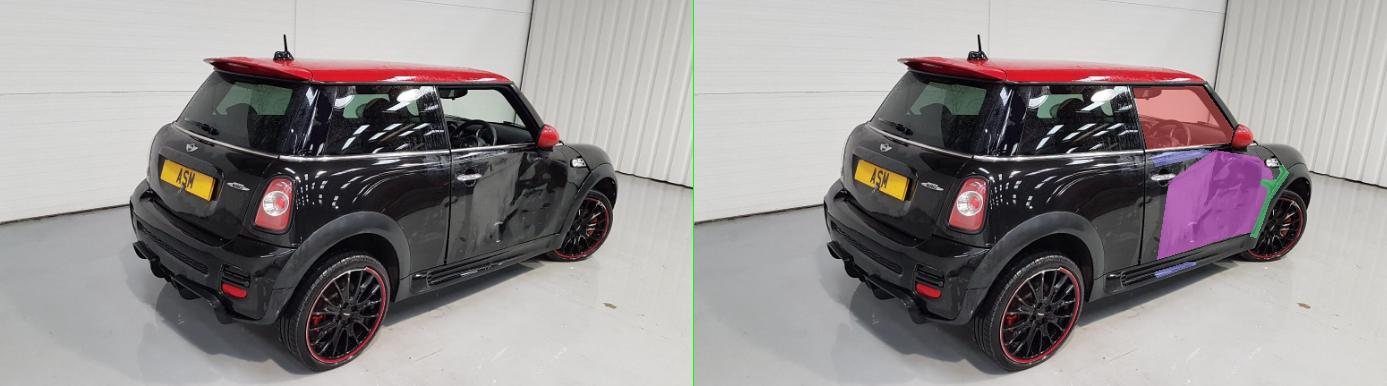Broken part: (1113, 164, 1189, 237)
Dent: (927, 150, 1159, 259)
Missing part: (879, 86, 1079, 149)
Scratch: (917, 149, 1033, 166), (921, 262, 1003, 277)
